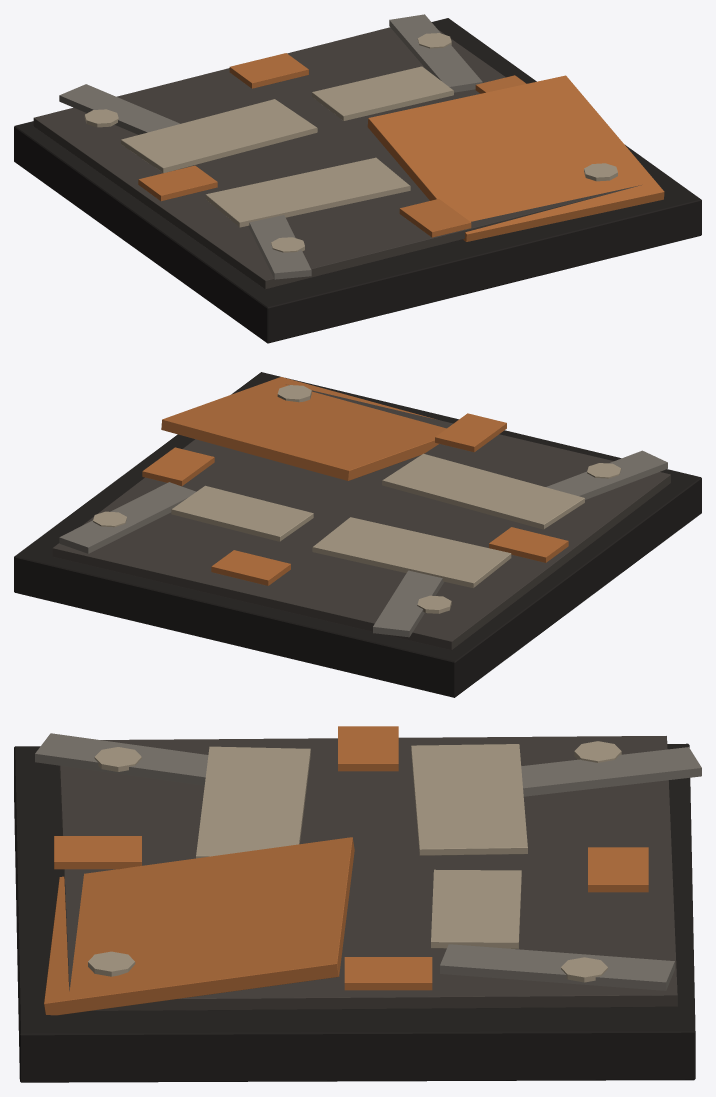
The model's file is floor_module__damaged.glb.
3 renders of one model, top to bottom at view 1: azimuth 30°, elevation 25°; view 2: azimuth 150°, elevation 25°; view 3: azimuth 270°, elevation 25°, orthographic. The views are drawn at different scales.
Parts seen in each view (by area): view 1: ROLE_primary, ROLE_rubber, ROLE_accent, ROLE_secondary, ROLE_bareMetal; view 2: ROLE_primary, ROLE_rubber, ROLE_accent, ROLE_secondary, ROLE_bareMetal; view 3: ROLE_primary, ROLE_rubber, ROLE_accent, ROLE_secondary, ROLE_bareMetal.
Part boxes in pixels (x1,y1,x2,y2): ROLE_primary: (33,27,641,289); ROLE_rubber: (14,18,701,343); ROLE_accent: (138,53,664,241); ROLE_secondary: (84,33,617,252); ROLE_bareMetal: (59,14,482,279); ROLE_primary: (52,384,670,650); ROLE_rubber: (14,372,701,697); ROLE_accent: (142,377,568,585); ROLE_secondary: (93,385,621,613); ROLE_bareMetal: (59,450,667,637); ROLE_primary: (59,736,677,1011); ROLE_rubber: (14,743,695,1082); ROLE_accent: (44,726,648,1015); ROLE_secondary: (88,741,621,982); ROLE_bareMetal: (35,733,701,990).
Size of the model in its own units: 2.91 by 0.5 by 2.91.
